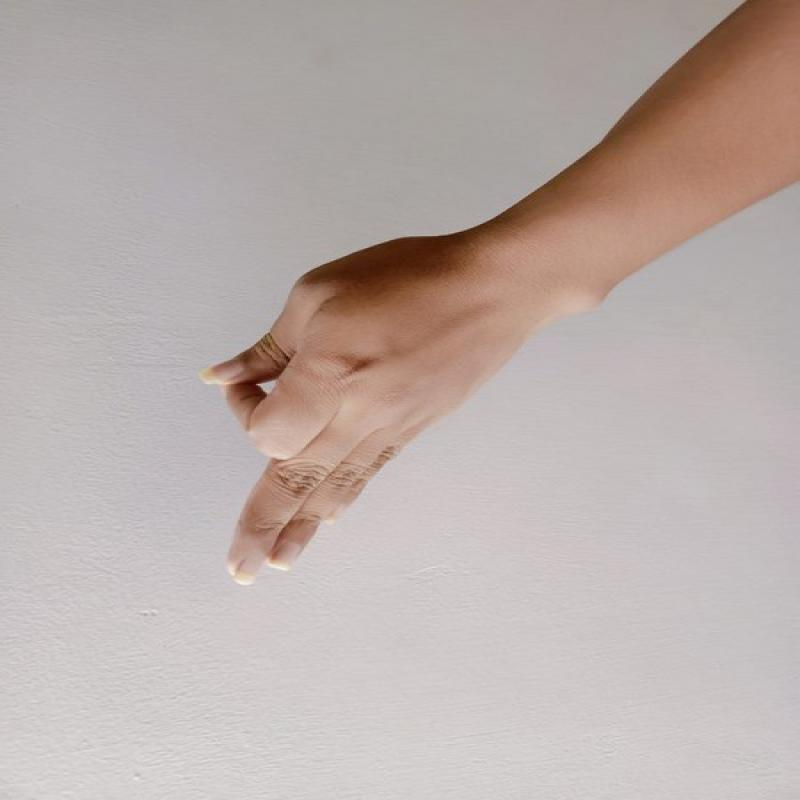Mudraakhyam: (178, 216, 539, 593)
